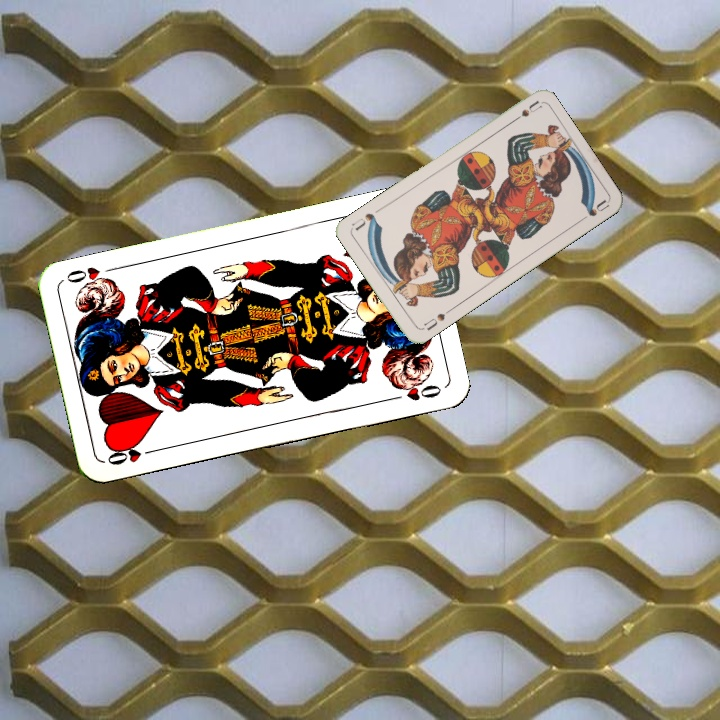HO: (103, 441, 161, 468)
SU: (506, 97, 544, 127), (417, 305, 453, 333)
